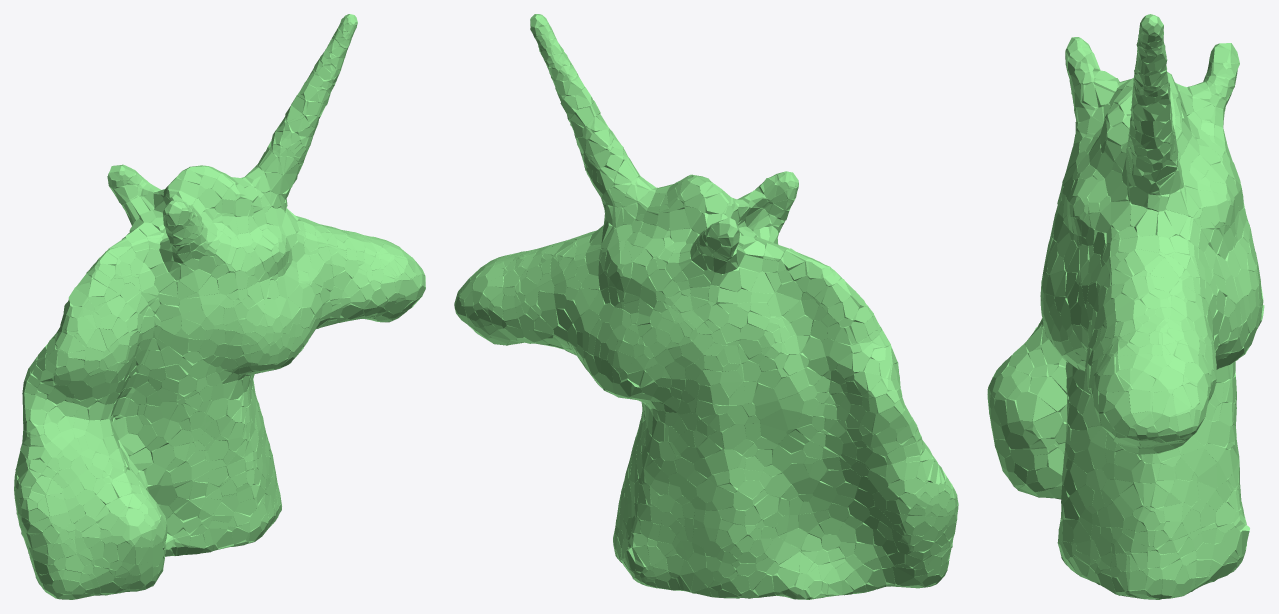
Rendered from 55932_clean_vorolight.glb.
The picture shows the model from 3 angles, left to right: view 1: azimuth 30°, elevation 25°; view 2: azimuth 150°, elevation 25°; view 3: azimuth 270°, elevation 25°; orthographic projection. The views are drawn at different scales.
Parts seen in each view (by area): view 1: 55932_shape50_normal10_clean_voronoi_mesh_surface.obj; view 2: 55932_shape50_normal10_clean_voronoi_mesh_surface.obj; view 3: 55932_shape50_normal10_clean_voronoi_mesh_surface.obj.
Part boxes in pixels (x1=…): 55932_shape50_normal10_clean_voronoi_mesh_surface.obj: x1=14, y1=14, x2=425, y2=599; 55932_shape50_normal10_clean_voronoi_mesh_surface.obj: x1=454, y1=14, x2=958, y2=599; 55932_shape50_normal10_clean_voronoi_mesh_surface.obj: x1=987, y1=14, x2=1264, y2=599.
Size of the model in its own units: 1.3 by 1.39 by 0.5449.
